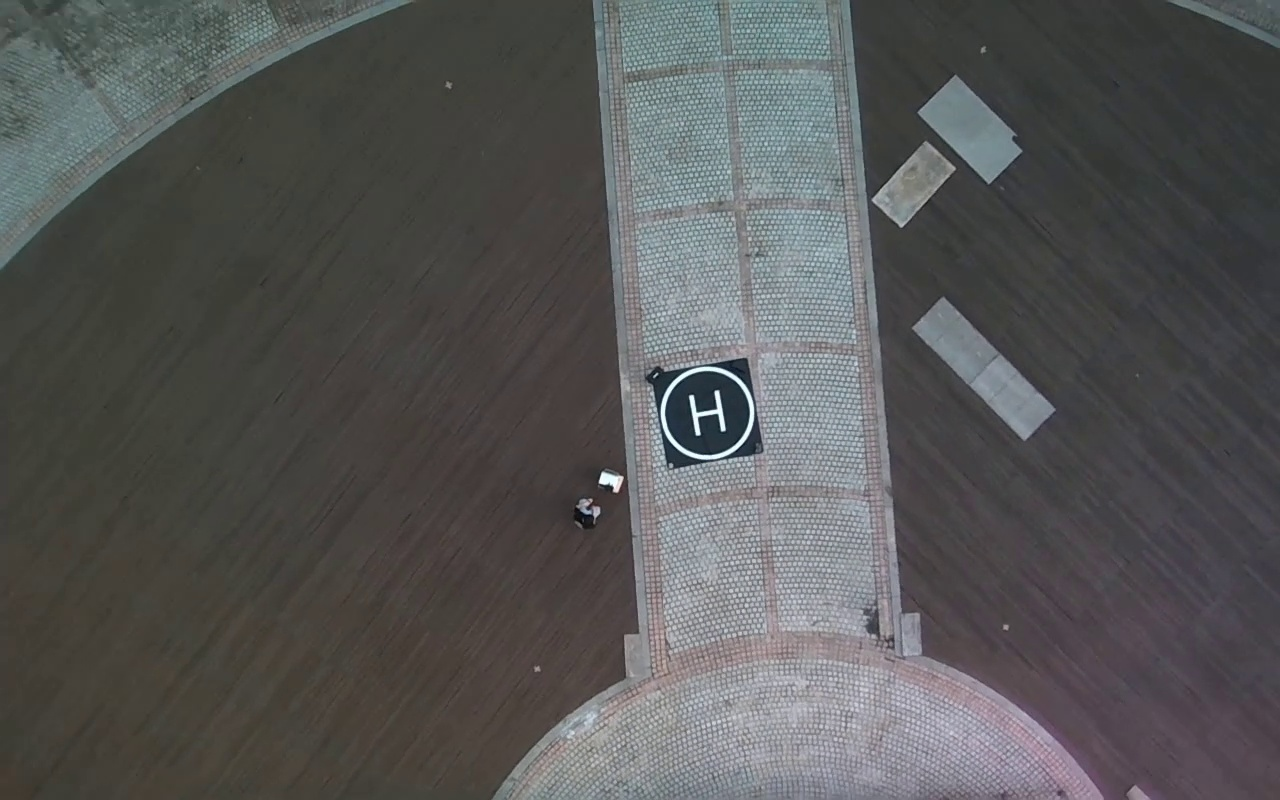H: (685, 389, 727, 436)
heliport: (661, 367, 756, 460)
